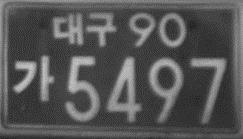0: (160, 10, 187, 48)
4: (105, 56, 145, 125)
5: (64, 53, 100, 122)
7: (188, 55, 227, 127)
9: (148, 54, 185, 126), (127, 10, 156, 48)
가: (13, 53, 55, 103)
대구_O: (51, 10, 117, 48)
